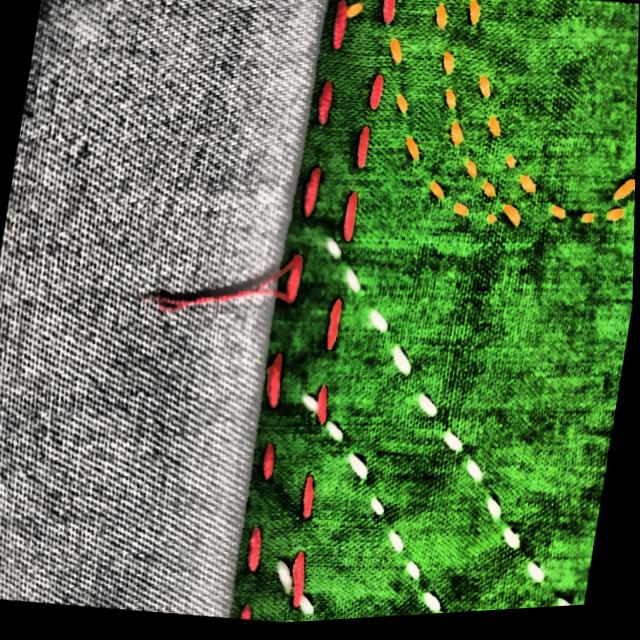Stitch: (141, 240, 308, 349)
